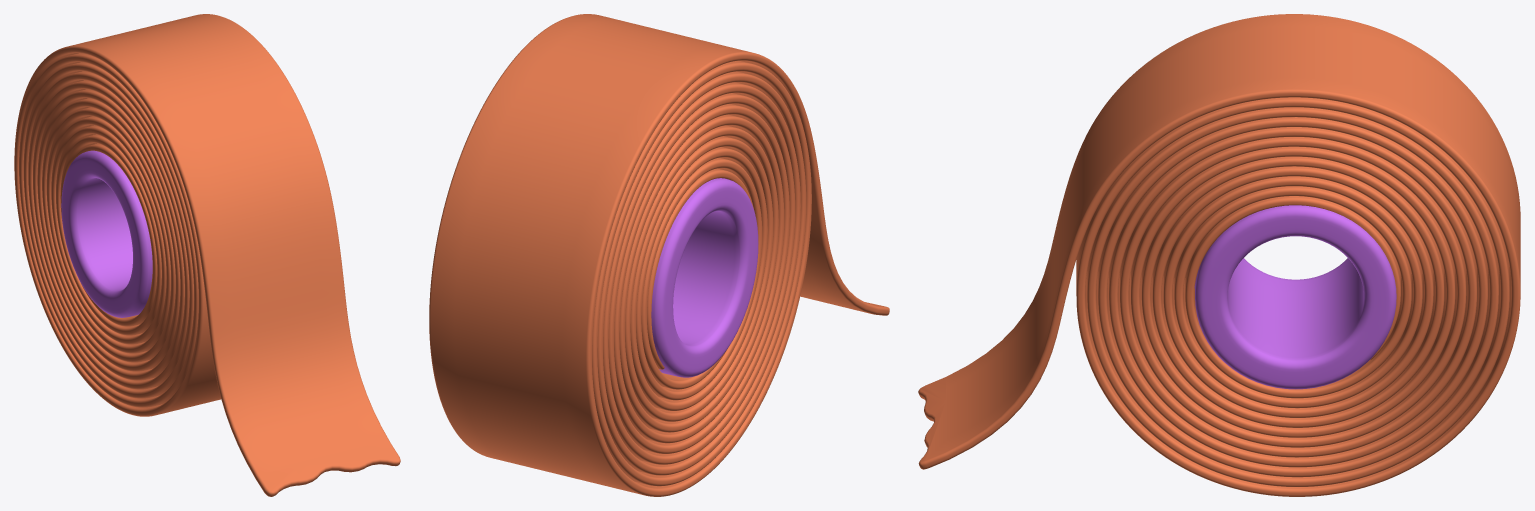
Rendered from 20. Tapes.glb.
3 views of the same model, side by side, from view 1: azimuth 30°, elevation 25°; view 2: azimuth 150°, elevation 25°; view 3: azimuth 270°, elevation 25° (orthographic). The views are drawn at different scales.
Parts seen in each view (by area): view 1: Spiral.001, Tapes; view 2: Spiral.001, Tapes; view 3: Spiral.001, Tapes.
Part boxes in pixels (x1,y1,x2,y2): Spiral.001: [14, 14, 400, 496]; Tapes: [61, 150, 152, 317]; Spiral.001: [429, 14, 889, 496]; Tapes: [651, 178, 758, 377]; Spiral.001: [918, 14, 1520, 496]; Tapes: [1194, 205, 1396, 389].
Bounding box in the file's own units: 0.1809 × 0.3997 × 0.5354.
